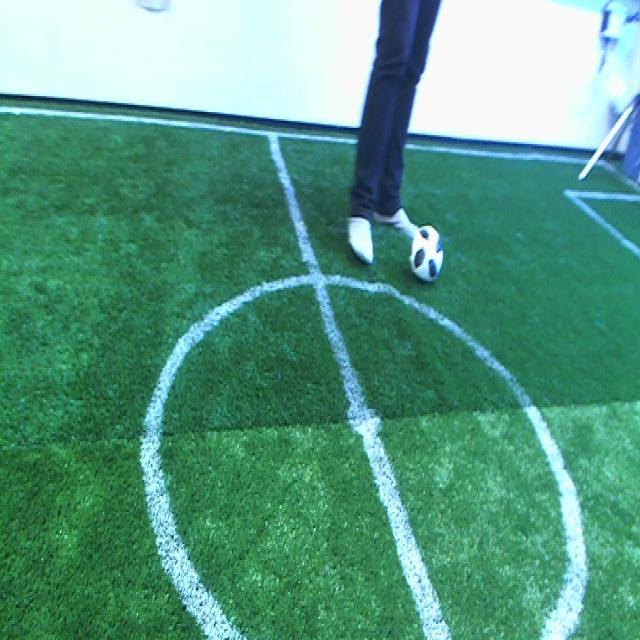ball: (408, 224, 445, 283)
